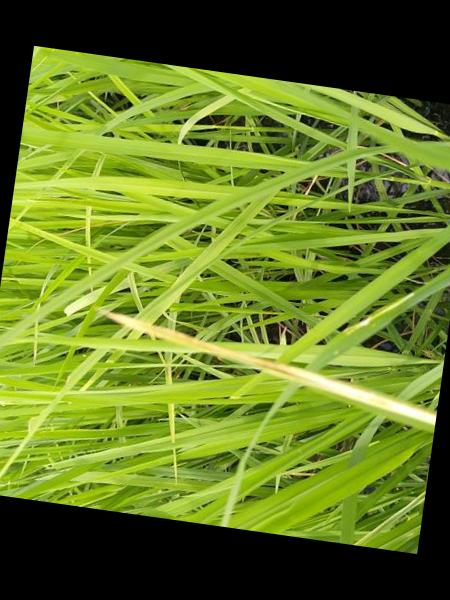Leaf Blight: (104, 311, 437, 433)
